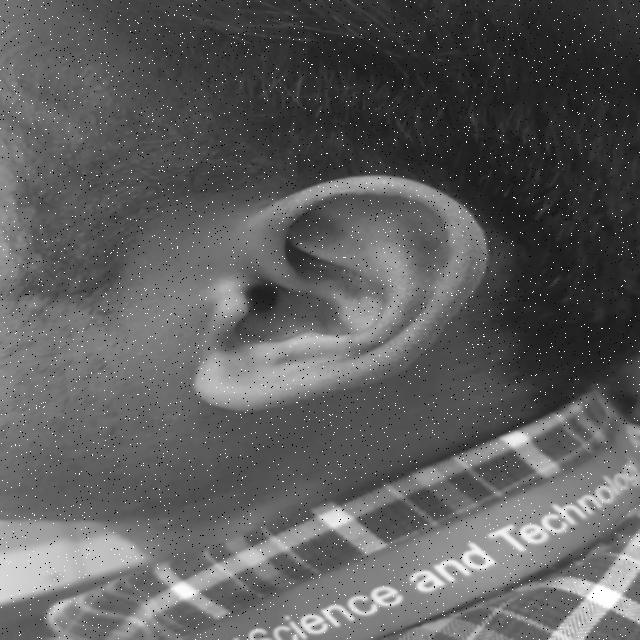ear: (194, 176, 487, 410)
